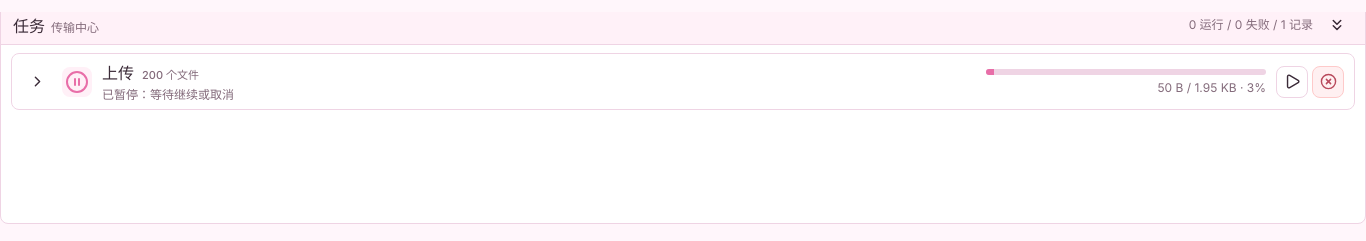
Test case: refreshes visible detail pages once when a paused task becomes Canceled
Click the button with class "taskExpandButton": click(37, 82) [22,66,52,96]
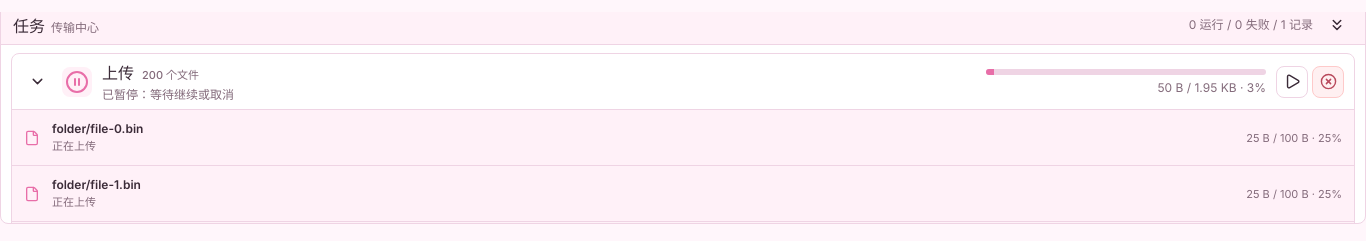
Expected: the element with class "running" that starts with "folder/file-0.bin" is shown, [12,110,1354,166]
